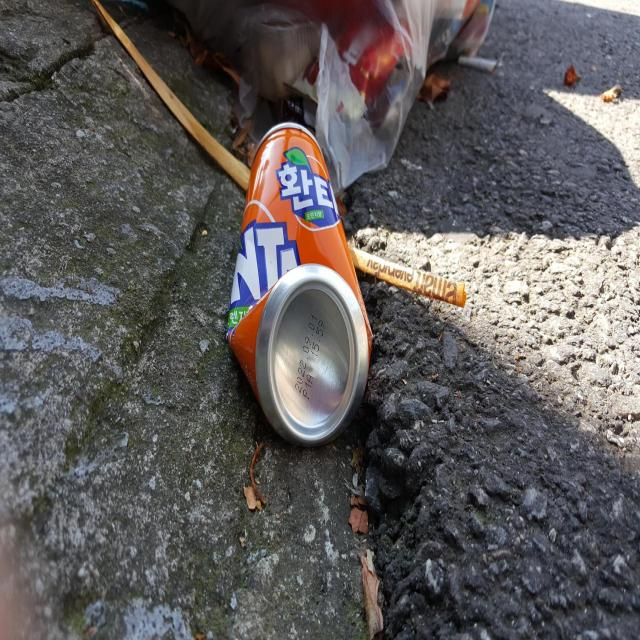can: (227, 121, 372, 446)
